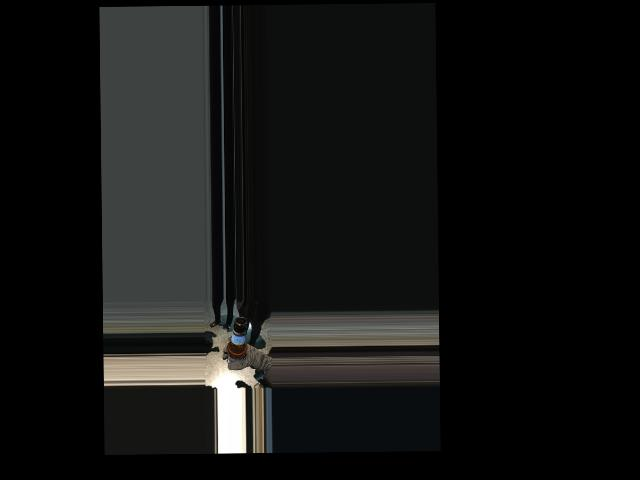beer: (225, 316, 247, 367)
